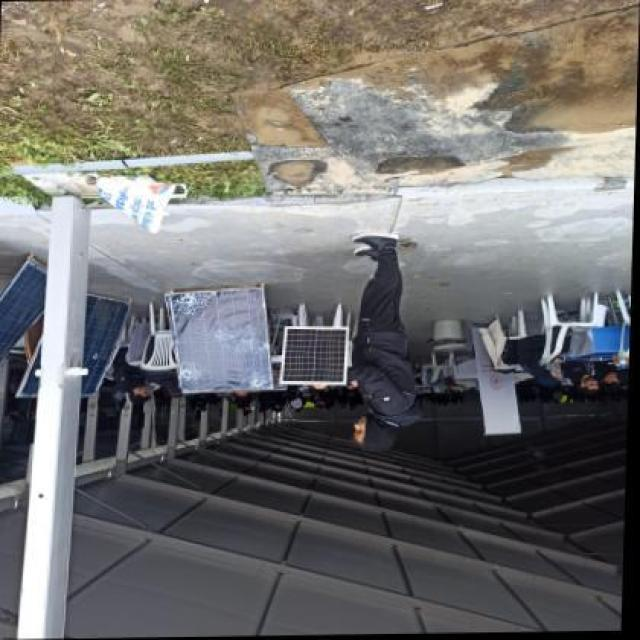cracked: (162, 288, 278, 393)
